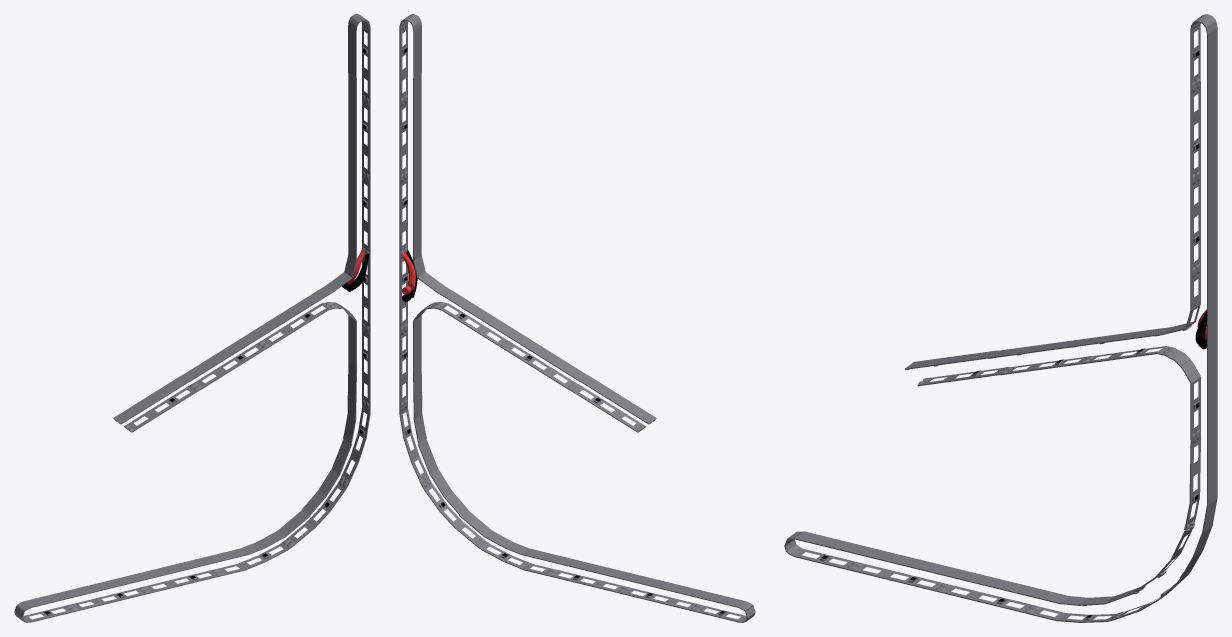
The model's file is FIXED-LED.glb.
3 renders of one model, left to right at view 1: azimuth 30°, elevation 25°; view 2: azimuth 150°, elevation 25°; view 3: azimuth 330°, elevation 25°, orthographic. The views are drawn at different scales.
Visible parts, largest first — view 1: FIXED-LED; view 2: FIXED-LED; view 3: FIXED-LED.
Part boxes in pixels (<box>): FIXED-LED: <box>14,14,370,622</box>; FIXED-LED: <box>399,14,755,622</box>; FIXED-LED: <box>784,14,1217,622</box>.
Bounding box in the file's own units: 31.9 × 45.64 × 2.32.
